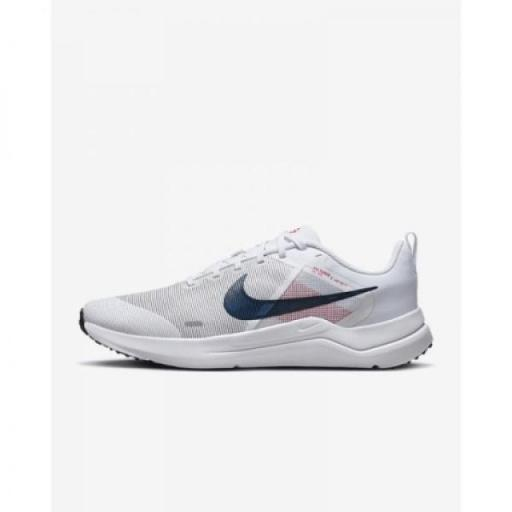Nike: (213, 278, 387, 324)
